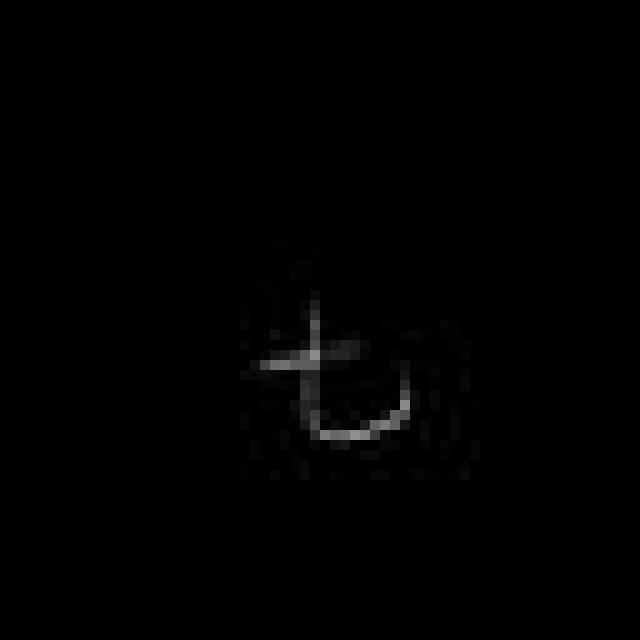7 -seven-: (247, 306, 425, 453)
